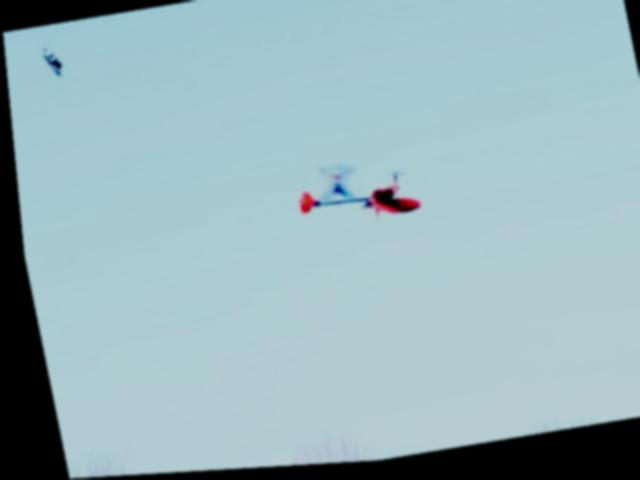uav: (285, 160, 427, 246)
